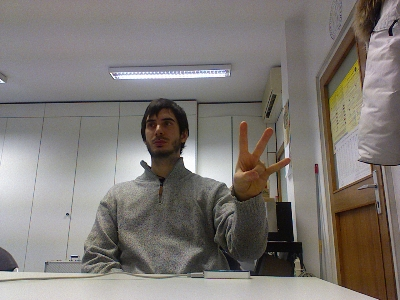观音: (229, 117, 291, 201)
